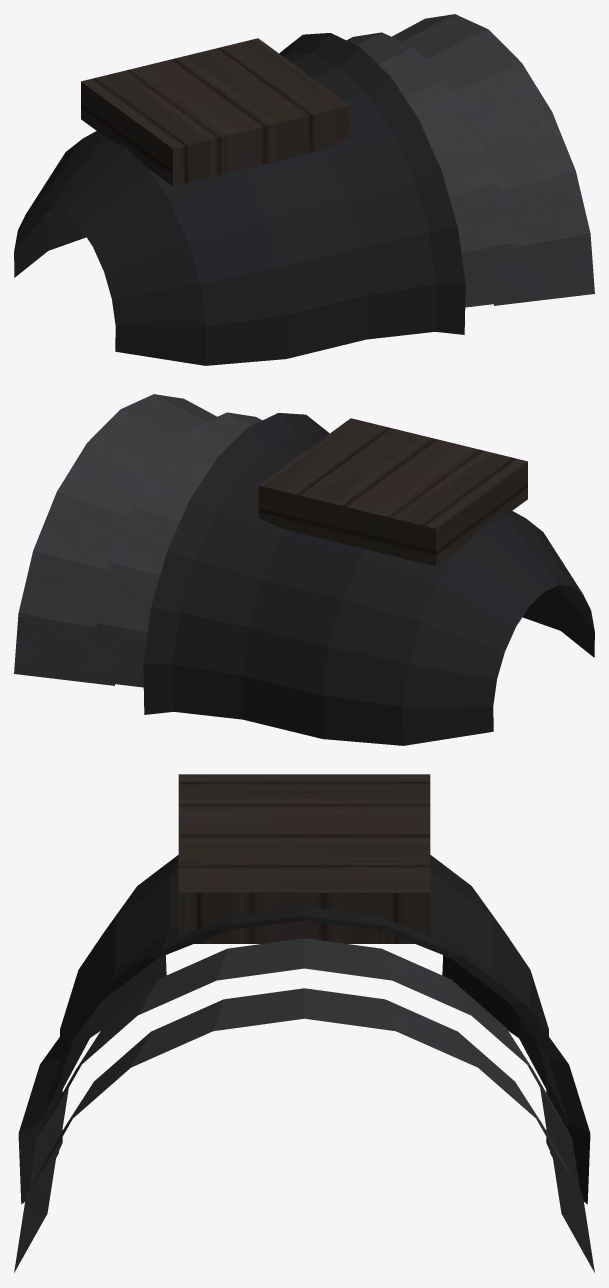
File: eq_present_3_shoulder.glb
The picture shows the model from 3 angles, top to bottom: view 1: azimuth 30°, elevation 25°; view 2: azimuth 150°, elevation 25°; view 3: azimuth 270°, elevation 25°; orthographic projection. The views are drawn at different scales.
Parts seen in each view (by area): view 1: eq_present_3_shoulder; view 2: eq_present_3_shoulder; view 3: eq_present_3_shoulder.
Part boxes in pixels (box(x1,y1,x2,y2)): eq_present_3_shoulder: box(14, 14, 594, 365); eq_present_3_shoulder: box(14, 394, 594, 745); eq_present_3_shoulder: box(14, 774, 594, 1272).
Size of the model in its own units: 0.2581 by 0.1232 by 0.2246.
Materials: 3 (2 with a texture image).
